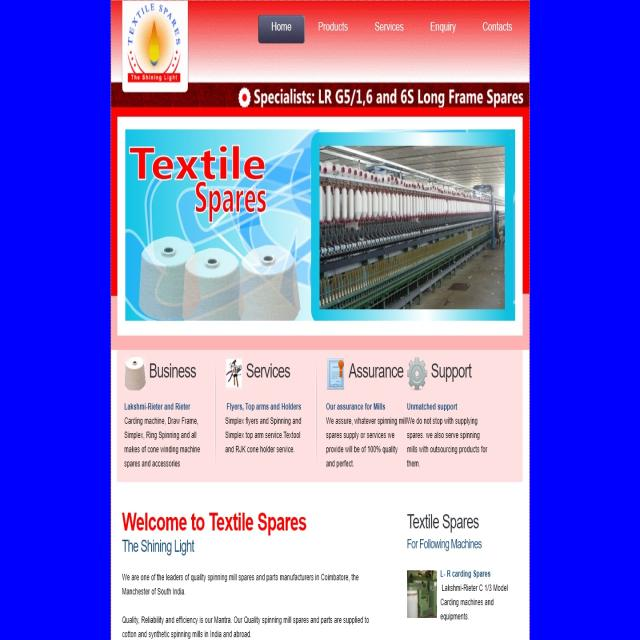button: (258, 13, 304, 44), (477, 12, 516, 44), (313, 12, 354, 41), (370, 11, 408, 40), (426, 12, 460, 42)
heading: (129, 140, 268, 218), (120, 506, 308, 536), (405, 509, 482, 533), (348, 362, 405, 382), (147, 361, 199, 382), (430, 360, 475, 381), (246, 360, 292, 380)
image: (126, 128, 515, 323), (319, 143, 506, 310), (123, 0, 188, 91), (408, 570, 437, 617), (124, 355, 146, 390), (225, 355, 243, 389), (408, 358, 427, 390), (328, 360, 343, 390)
text: (252, 84, 524, 110), (121, 613, 369, 640), (121, 570, 360, 596), (326, 400, 404, 477), (406, 400, 489, 471), (124, 400, 202, 471), (226, 402, 303, 459), (439, 568, 510, 623), (121, 536, 197, 558), (406, 534, 484, 552)
